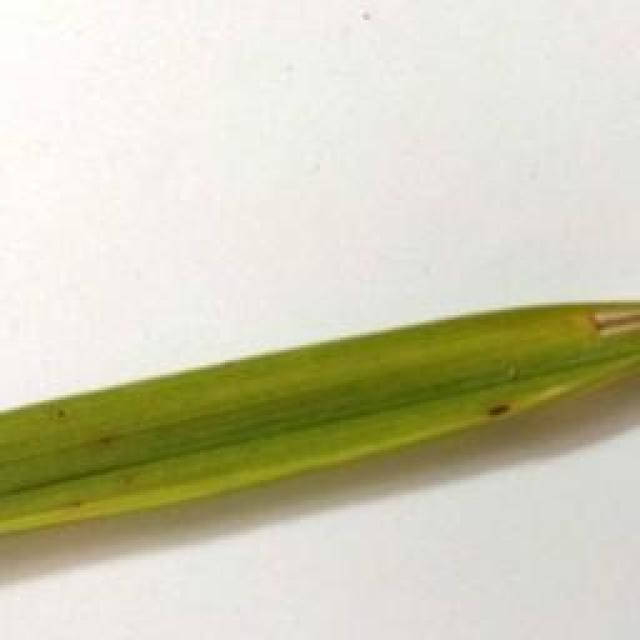Bacterial_Blight: (571, 302, 640, 336)
Brown_Spot: (472, 391, 524, 424), (40, 404, 92, 425), (61, 492, 103, 516), (90, 425, 123, 451), (111, 470, 142, 487)
